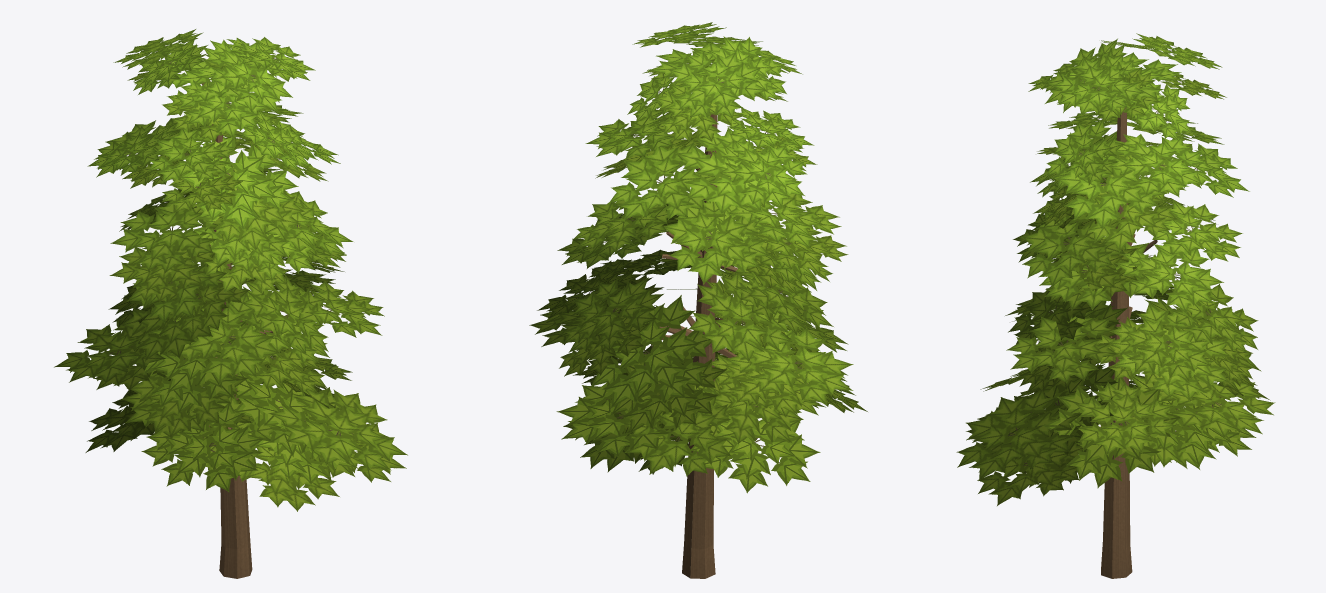
The model's file is maple2_t.glb.
3 renders of one model, left to right at view 1: azimuth 30°, elevation 25°; view 2: azimuth 150°, elevation 25°; view 3: azimuth 270°, elevation 25°, orthographic. The views are drawn at different scales.
Parts seen in each view (by area): view 1: maple2_t; view 2: maple2_t; view 3: maple2_t.
Part boxes in pixels (<box>): maple2_t: <box>54,29,407,578</box>; maple2_t: <box>529,22,867,578</box>; maple2_t: <box>956,33,1275,578</box>.
Bounding box in the file's own units: 3.63 × 5.64 × 3.82.
Materials: 2 (2 with a texture image).
